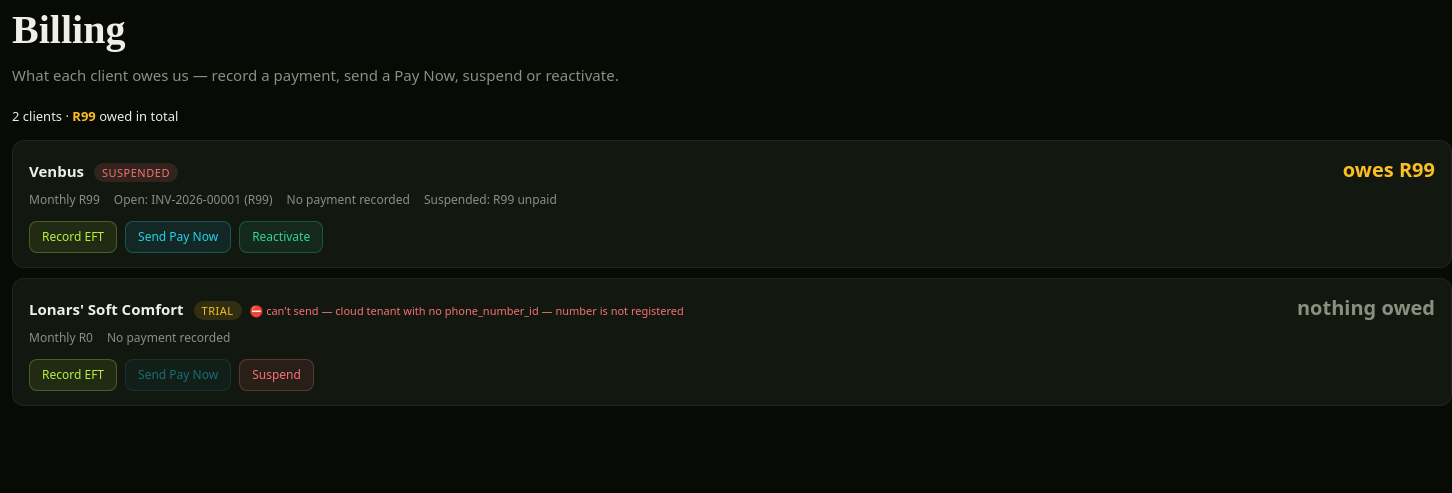
Test: BillingPanel › Record EFT › records it against the invoice, switches them back on, and shows what the server said
The width and height of the screenshot is (1452, 493).
Expected: the text "Venbus" is shown, top-left (29, 161), bottom-right (84, 181)
Click the button "Record EFT" below "Open:": (73, 237) top-left (29, 221), bottom-right (117, 253)
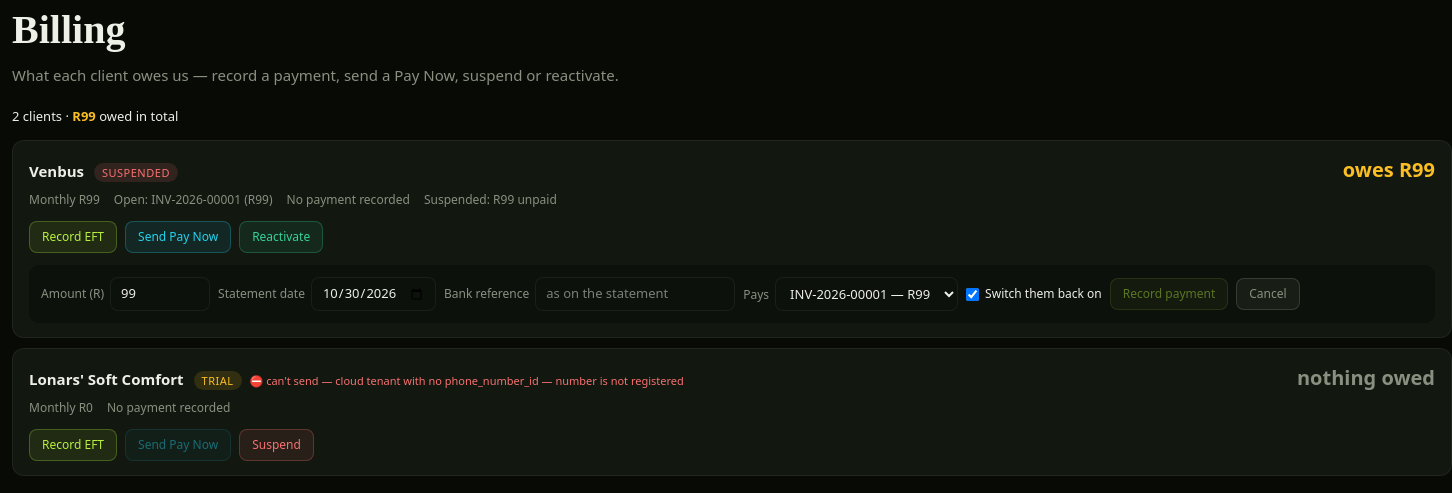
Replace the text in the number field labelled "Amount" with "100": (160, 294) top-left (110, 277), bottom-right (210, 311)
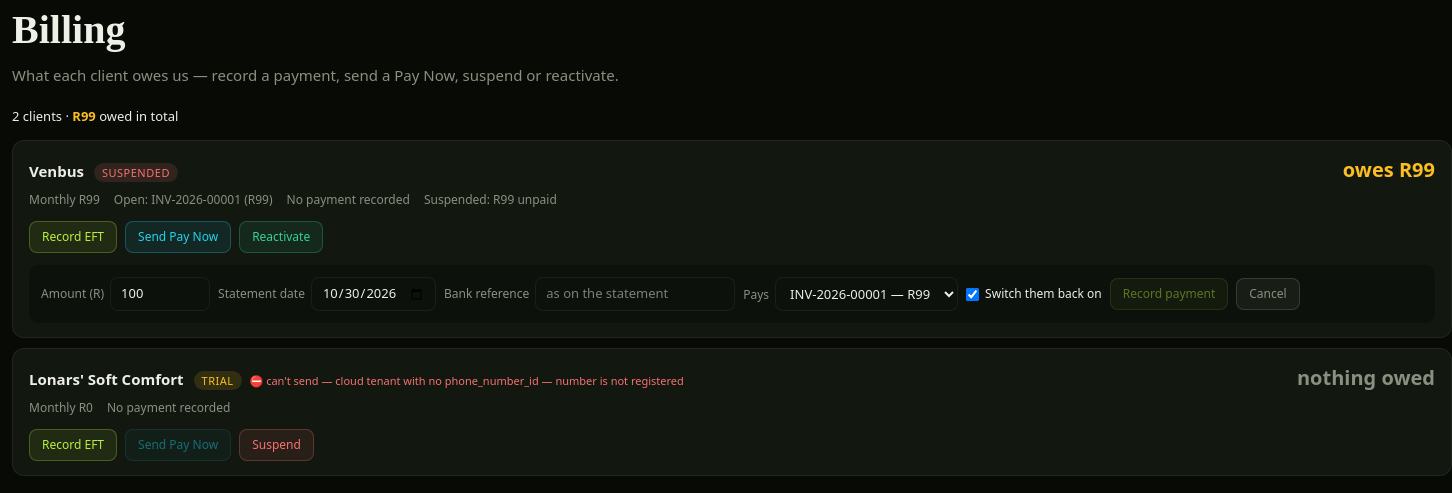
In the field labelled "Bank reference": (635, 294) top-left (535, 277), bottom-right (735, 311), type "Standard Bank 4152557323"
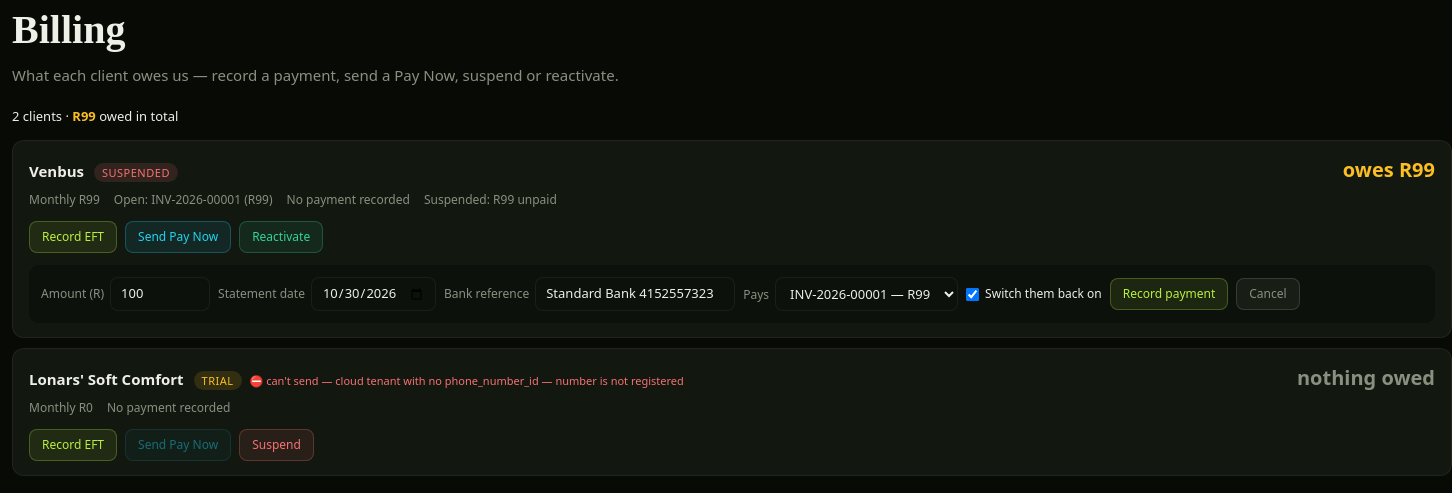
Expected: the checkbox labelled "Switch them back on" is checked, top-left (966, 288), bottom-right (979, 300)
Click the button "Record payment": (1169, 294) top-left (1110, 278), bottom-right (1228, 310)
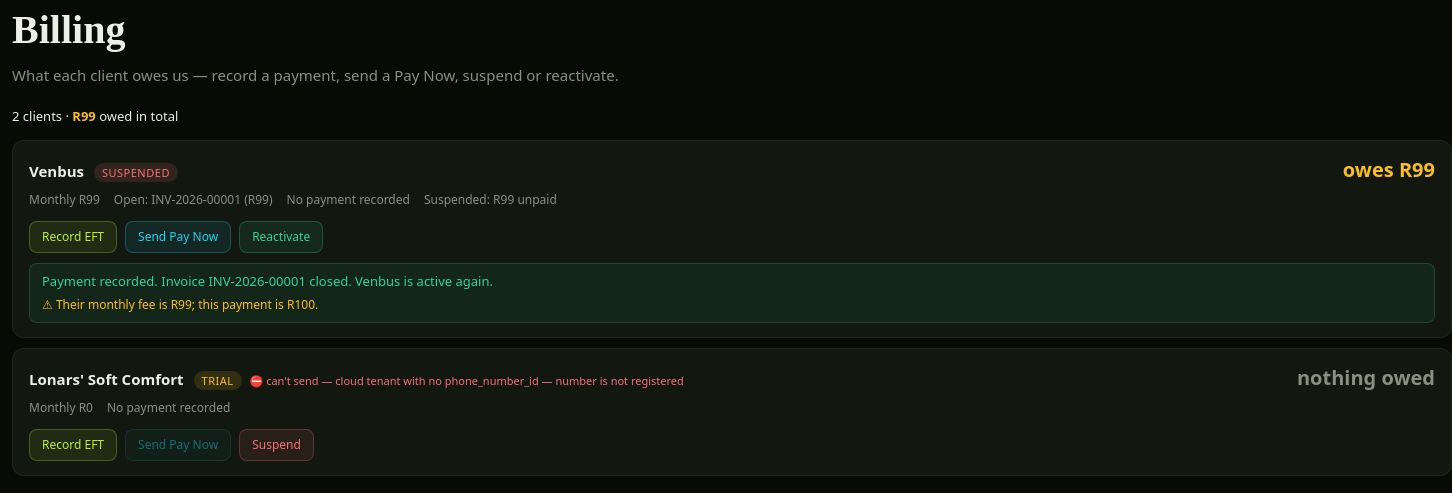
Expected: the text "Invoice INV-2026-00001 closed" is shown, top-left (42, 272), bottom-right (493, 290)
Expected: the text "⚠ Their monthly fee is R99; this payment is R100." is shown, top-left (42, 296), bottom-right (318, 312)
